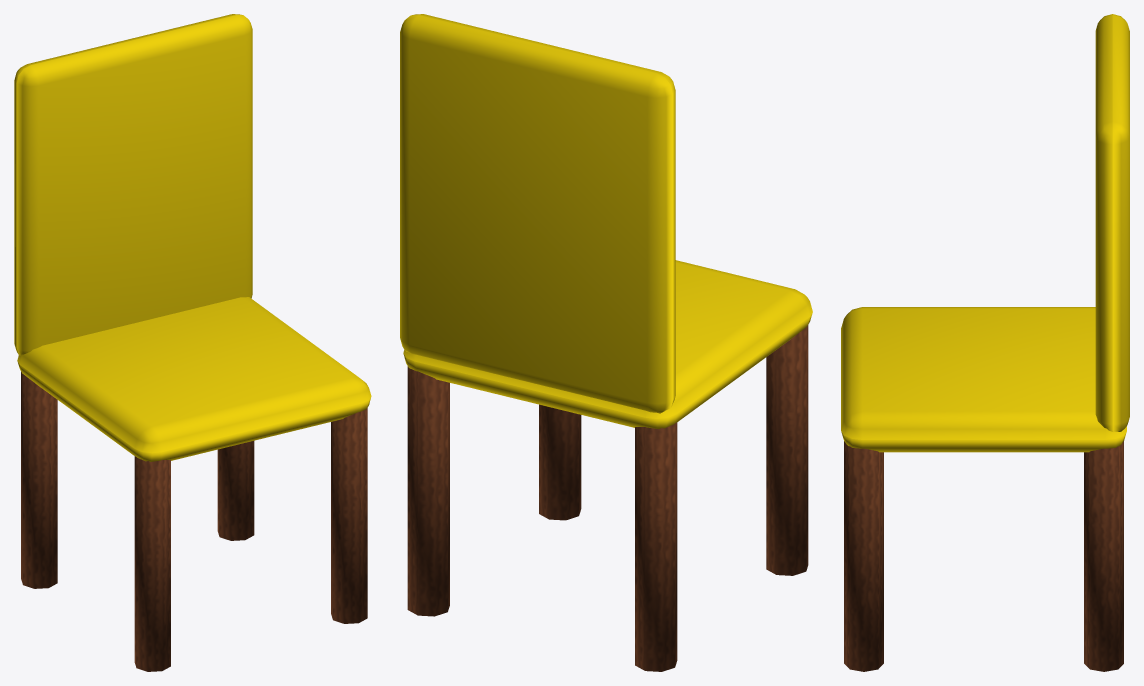
File: chair_plain.glb
3 views of the same model, side by side, from view 1: azimuth 30°, elevation 25°; view 2: azimuth 150°, elevation 25°; view 3: azimuth 270°, elevation 25° (orthographic). The views are drawn at different scales.
Parts seen in each view (by area): view 1: back, seat, Cylinder, Cylinder.002, Cylinder.001, Cylinder.003; view 2: back, seat, Cylinder.001, Cylinder.003, Cylinder, Cylinder.002; view 3: seat, back, Cylinder.002, Cylinder.003.
Boxes of the visible parts, x1=… form: back: x1=14, y1=14, x2=252, y2=355; seat: x1=17, y1=297, x2=371, y2=461; Cylinder: x1=134, y1=456, x2=170, y2=671; Cylinder.002: x1=331, y1=408, x2=367, y2=623; Cylinder.001: x1=21, y1=371, x2=57, y2=588; Cylinder.003: x1=217, y1=441, x2=254, y2=540; back: x1=400, y1=14, x2=675, y2=413; seat: x1=403, y1=260, x2=812, y2=428; Cylinder.001: x1=635, y1=422, x2=677, y2=671; Cylinder.003: x1=407, y1=366, x2=449, y2=616; Cylinder: x1=766, y1=325, x2=808, y2=575; Cylinder.002: x1=539, y1=404, x2=581, y2=520; seat: x1=841, y1=307, x2=1126, y2=452; back: x1=1095, y1=14, x2=1129, y2=431; Cylinder.002: x1=844, y1=441, x2=883, y2=671; Cylinder.003: x1=1084, y1=441, x2=1123, y2=671.
Bounding box in the file's own units: 0.1 × 0.21 × 0.101.
Materials: 2 (1 with a texture image).
